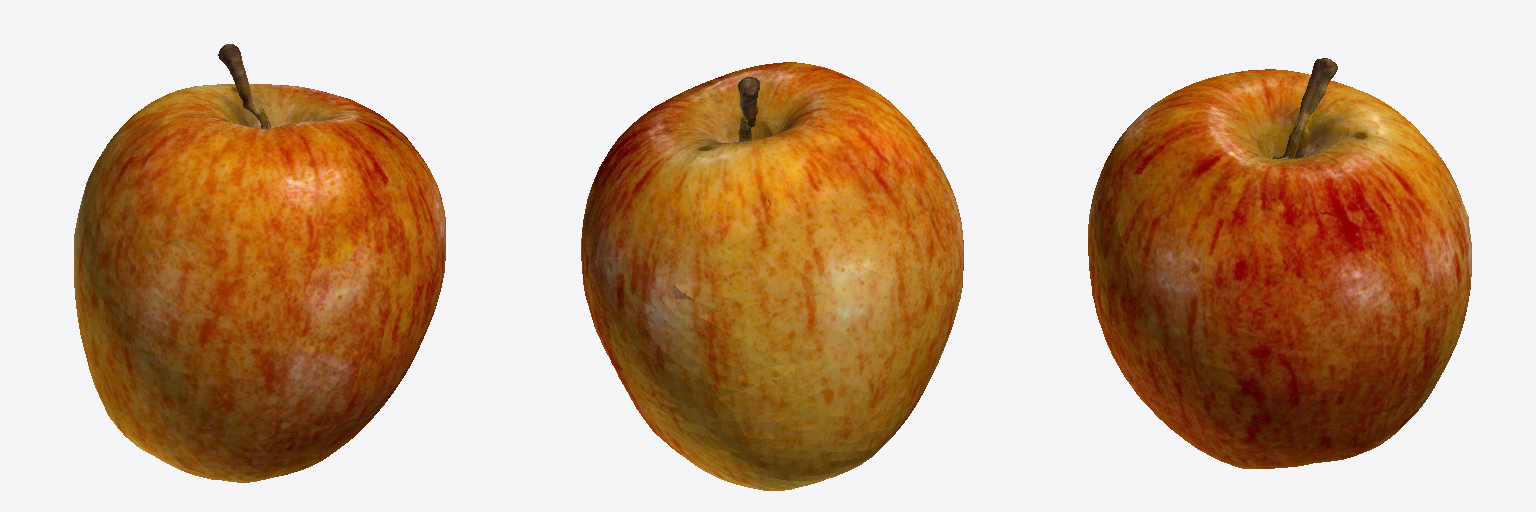
3 views of the same model, side by side, from view 1: azimuth 30°, elevation 25°; view 2: azimuth 150°, elevation 25°; view 3: azimuth 270°, elevation 25° (orthographic).
Parts seen in each view (by area): view 1: objapple; view 2: objapple; view 3: objapple.
Boxes of the visible parts, x1=… form: objapple: x1=74, y1=44, x2=445, y2=482; objapple: x1=581, y1=62, x2=963, y2=490; objapple: x1=1088, y1=58, x2=1471, y2=468.
Bounding box in the file's own units: 24.14 × 27.8 × 24.78.
Materials: 1 (1 with a texture image).